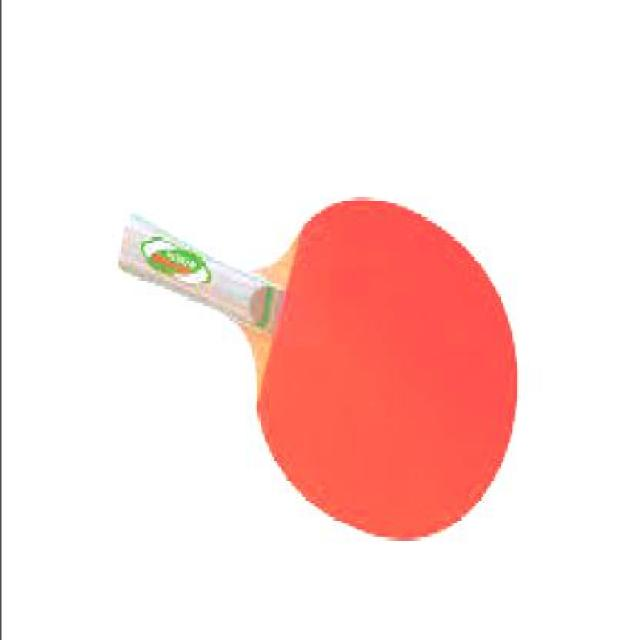table_tennis_racket: (255, 205, 523, 541)
